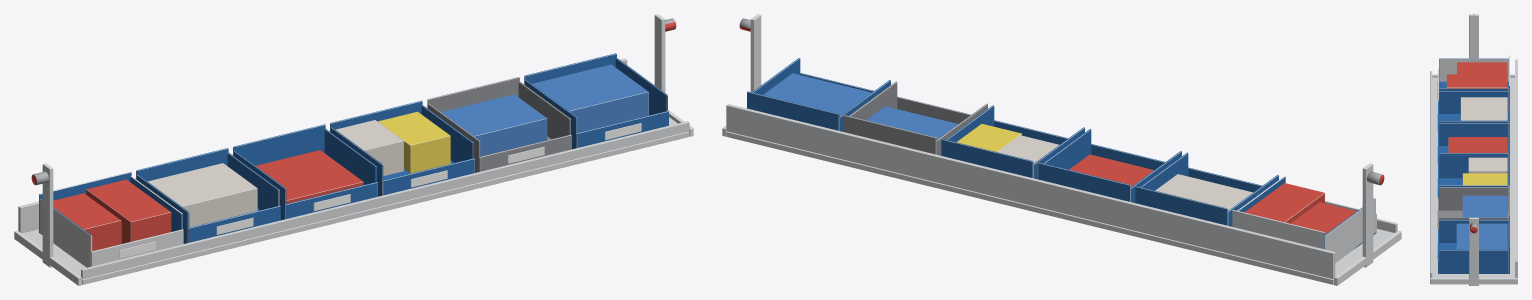
The model's file is carousel_vtray_v0.glb.
3 views of the same model, side by side, from view 1: azimuth 30°, elevation 25°; view 2: azimuth 150°, elevation 25°; view 3: azimuth 270°, elevation 25° (orthographic). The views are drawn at different scales.
Visible parts, largest first — view 1: VTray_v0; view 2: VTray_v0; view 3: VTray_v0.
Boxes of the visible parts, left/top/right/bottom form: VTray_v0: left=14, top=14, right=693, bottom=285; VTray_v0: left=722, top=14, right=1401, bottom=285; VTray_v0: left=1430, top=14, right=1517, bottom=285.
Bounding box in the file's own units: 2.58 × 0.38 × 0.45.
